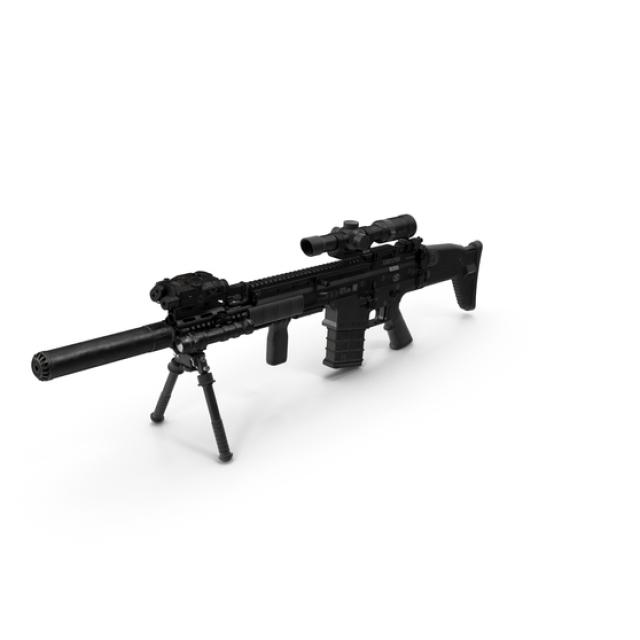Gun: (20, 215, 498, 466)
